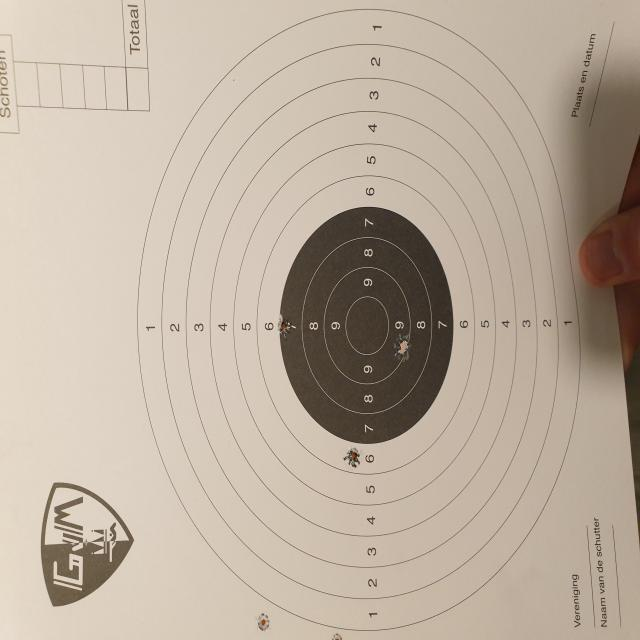0: (254, 611, 270, 633)
6: (344, 446, 363, 467)
7: (276, 311, 292, 341)
9: (394, 335, 411, 362)
Target: (138, 4, 578, 634)
black_contour: (280, 206, 453, 444)
